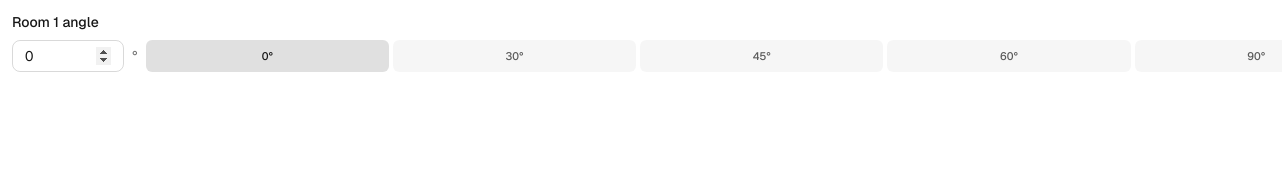
AngleField messages › says what is wrong when the angle will not parse
This screenshot has width=1282, height=172.
Replace the text in the number field with "abc" at (68, 56), box [12,40,124,72]
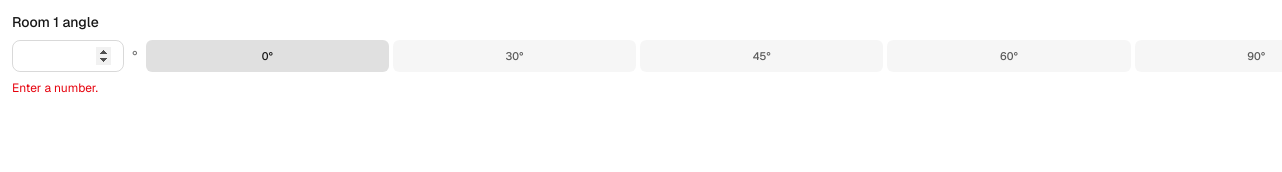
Check: the text "Enter a number." is shown, box [12,80,98,96]
